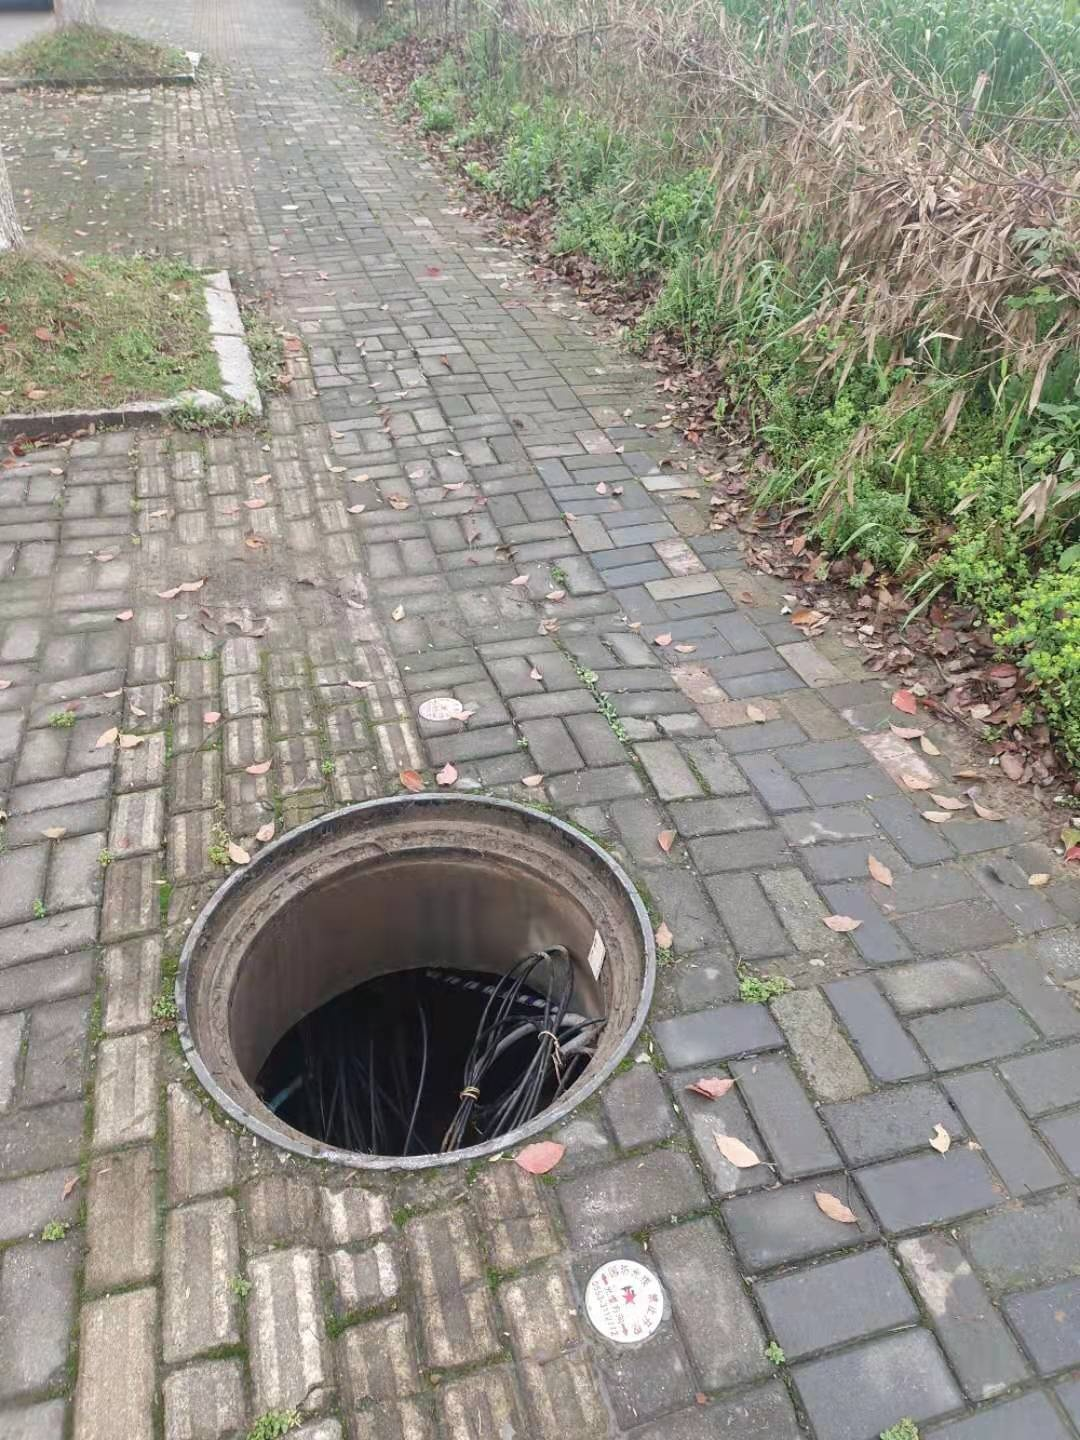lose: (176, 788, 657, 1172)
